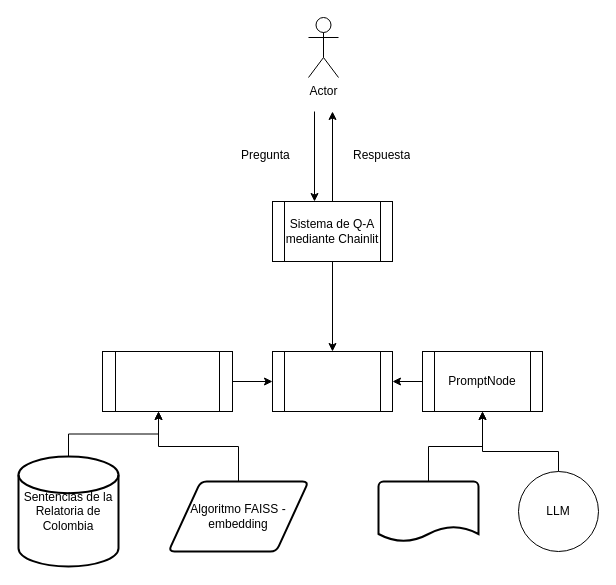
Image size: 616x585. Some labels were removed from this diagram. The shapes that lost their labels are listed below. From the top down, each one's box as (x1, y1, x2, y2) in pixels, then its label:
(102, 350, 232, 412): Retriever
(272, 350, 392, 412): Pipeline
(377, 480, 479, 542): Prompt
